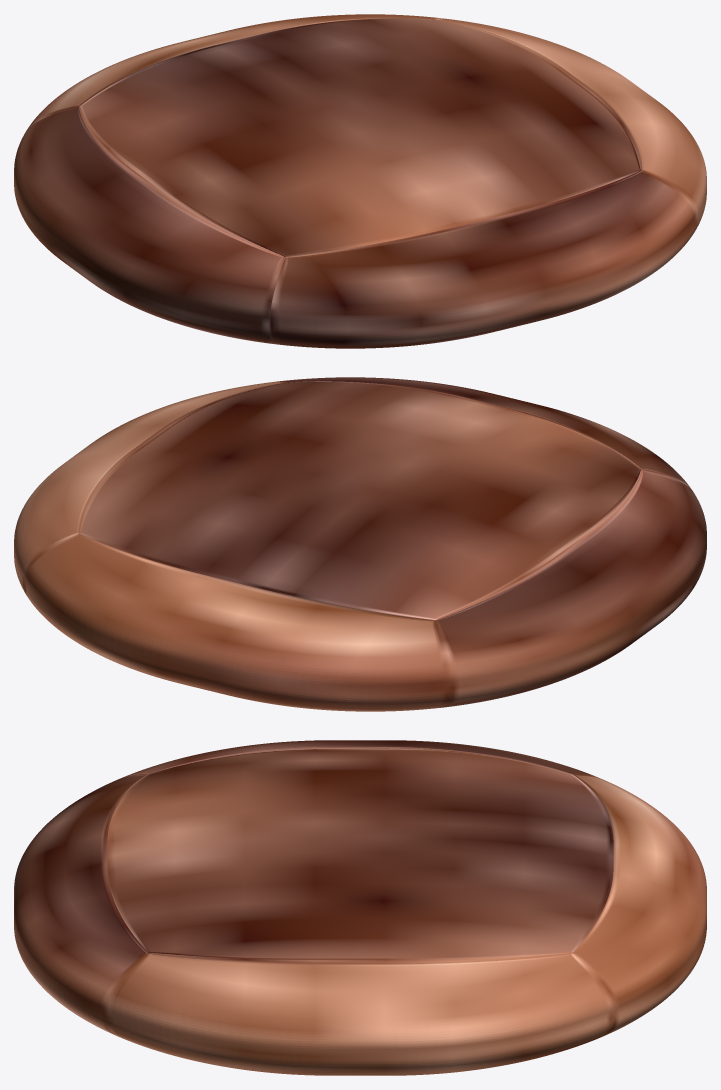
File: burger meat.fbx
The picture shows the model from 3 angles, top to bottom: view 1: azimuth 30°, elevation 25°; view 2: azimuth 150°, elevation 25°; view 3: azimuth 270°, elevation 25°; orthographic projection. The views are drawn at different scales.
Parts seen in each view (by area): view 1: Cube.014; view 2: Cube.014; view 3: Cube.014.
Boxes of the visible parts, bbox=[...] form: Cube.014: bbox=[14, 14, 706, 348]; Cube.014: bbox=[14, 377, 706, 711]; Cube.014: bbox=[14, 740, 706, 1075].
Size of the model in its own units: 200 by 46.09 by 200.
